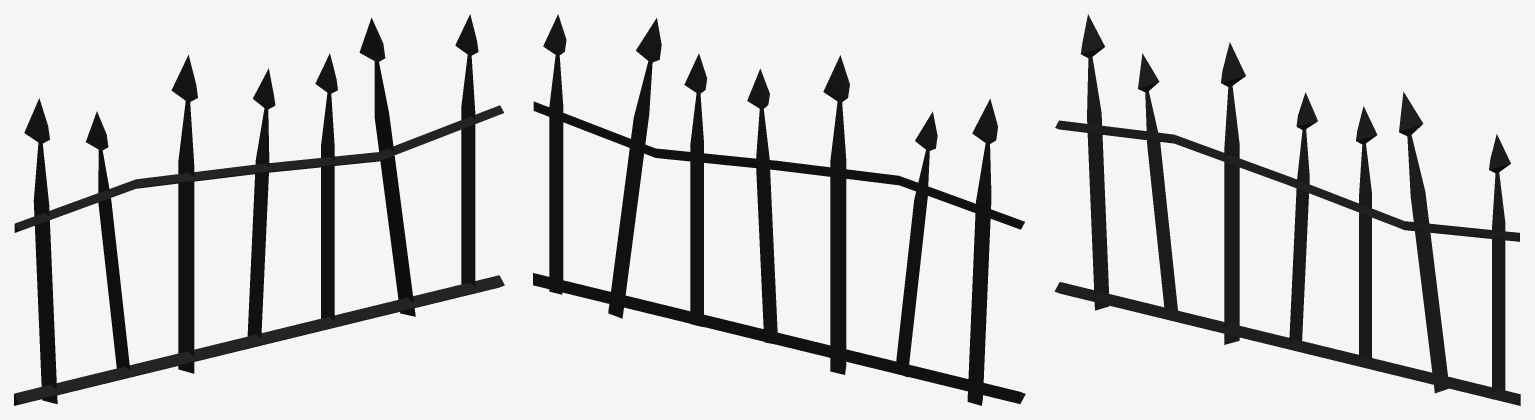
The model's file is CercaCemiterio.fbx.
3 renders of one model, left to right at view 1: azimuth 30°, elevation 25°; view 2: azimuth 150°, elevation 25°; view 3: azimuth 330°, elevation 25°, orthographic. The views are drawn at different scales.
Parts seen in each view (by area): view 1: Cube.296; view 2: Cube.296; view 3: Cube.296.
Part boxes in pixels (box(x1,y1,x2,y2)): Cube.296: box(14, 14, 504, 405); Cube.296: box(533, 14, 1025, 405); Cube.296: box(1054, 14, 1520, 405).
Size of the model in its own units: 193 by 120 by 9.83.
